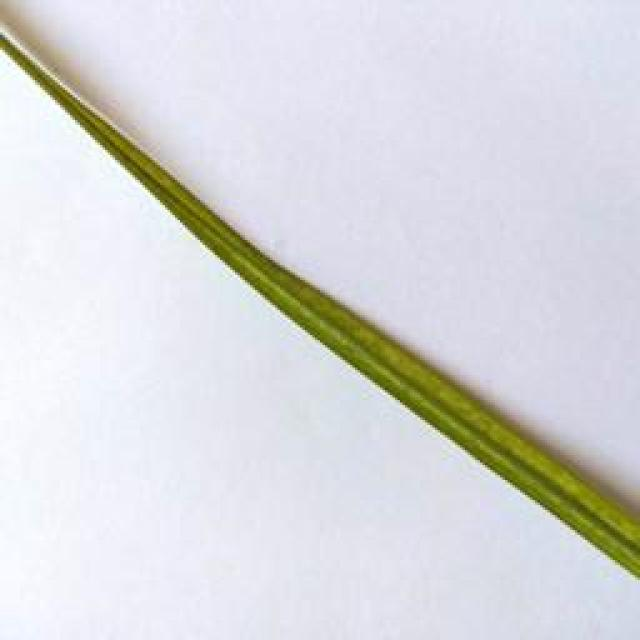Healthy-Plant: (0, 29, 640, 582)
